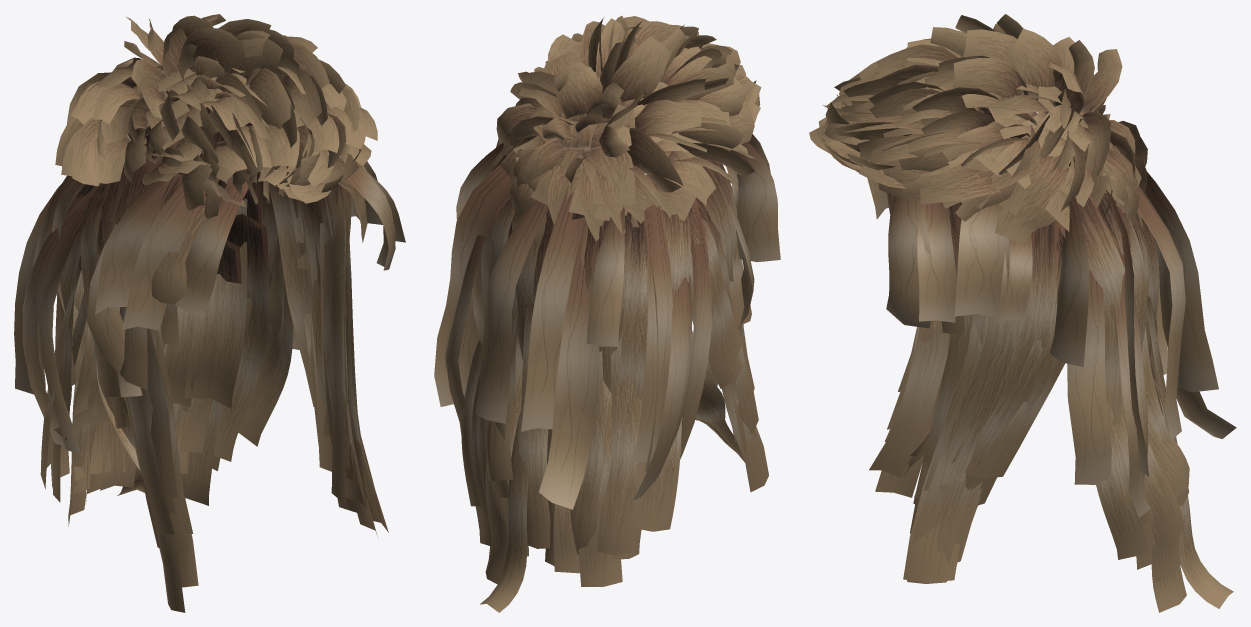
Rendered from Hair11.fbx.
3 views of the same model, side by side, from view 1: azimuth 30°, elevation 25°; view 2: azimuth 150°, elevation 25°; view 3: azimuth 270°, elevation 25° (orthographic). The views are drawn at different scales.
Visible parts, largest first — view 1: haircard vol7 hair07; view 2: haircard vol7 hair07; view 3: haircard vol7 hair07.
Part boxes in pixels (x1,y1,x2,y2): haircard vol7 hair07: (14, 14, 405, 612); haircard vol7 hair07: (434, 16, 780, 612); haircard vol7 hair07: (809, 14, 1236, 612).
Size of the model in its own units: 25.03 by 46.53 by 32.39.
Materials: 1 (1 with a texture image).
